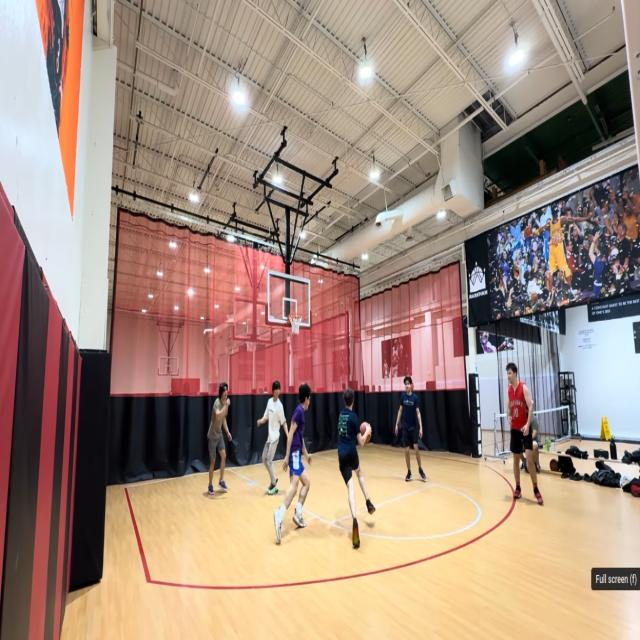Basketball: (359, 422, 371, 443)
Basketball Rim: (288, 312, 302, 334)
Player: (336, 388, 376, 549), (273, 384, 312, 544), (505, 362, 545, 506), (257, 380, 284, 496), (396, 376, 426, 480), (208, 382, 232, 495)
